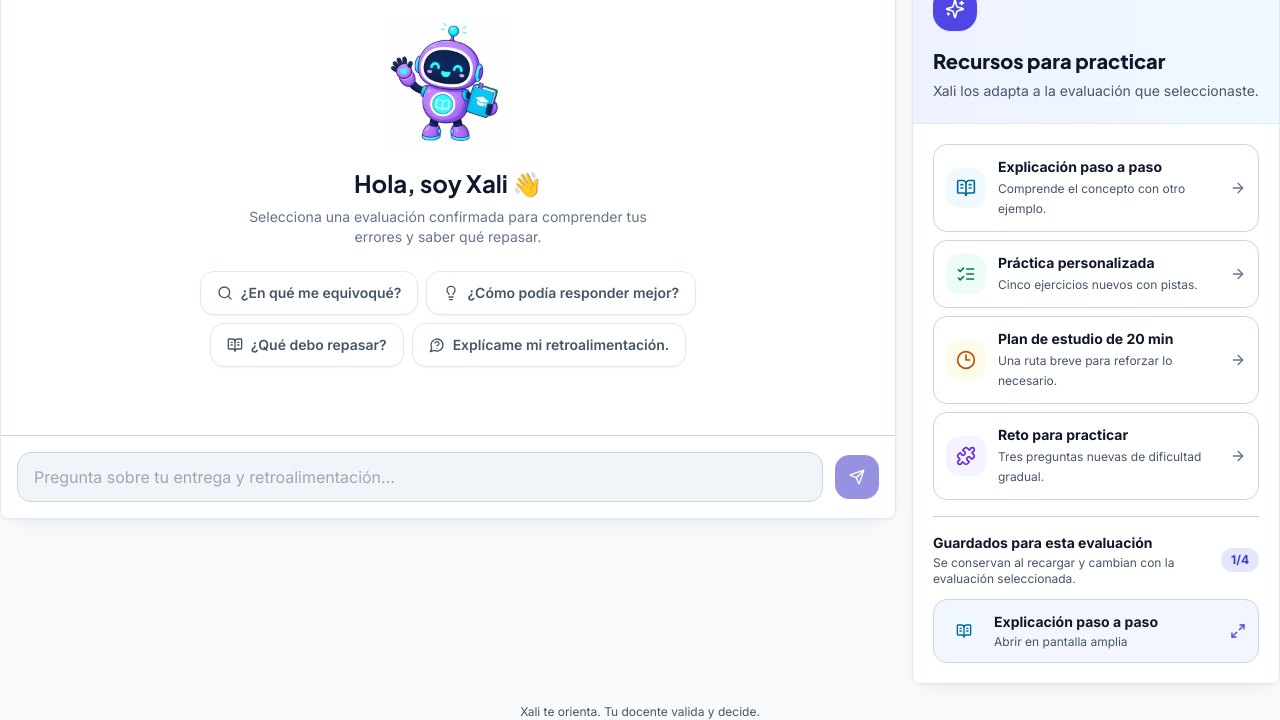
XaliPage student policy › loads only the saved resources for the selected evaluation
(page scrolled)
Click the button with aria-label "Abrir recurso guardado: Explicación paso a paso" at (1096, 631), box [933,599,1259,663]
(page scrolled)
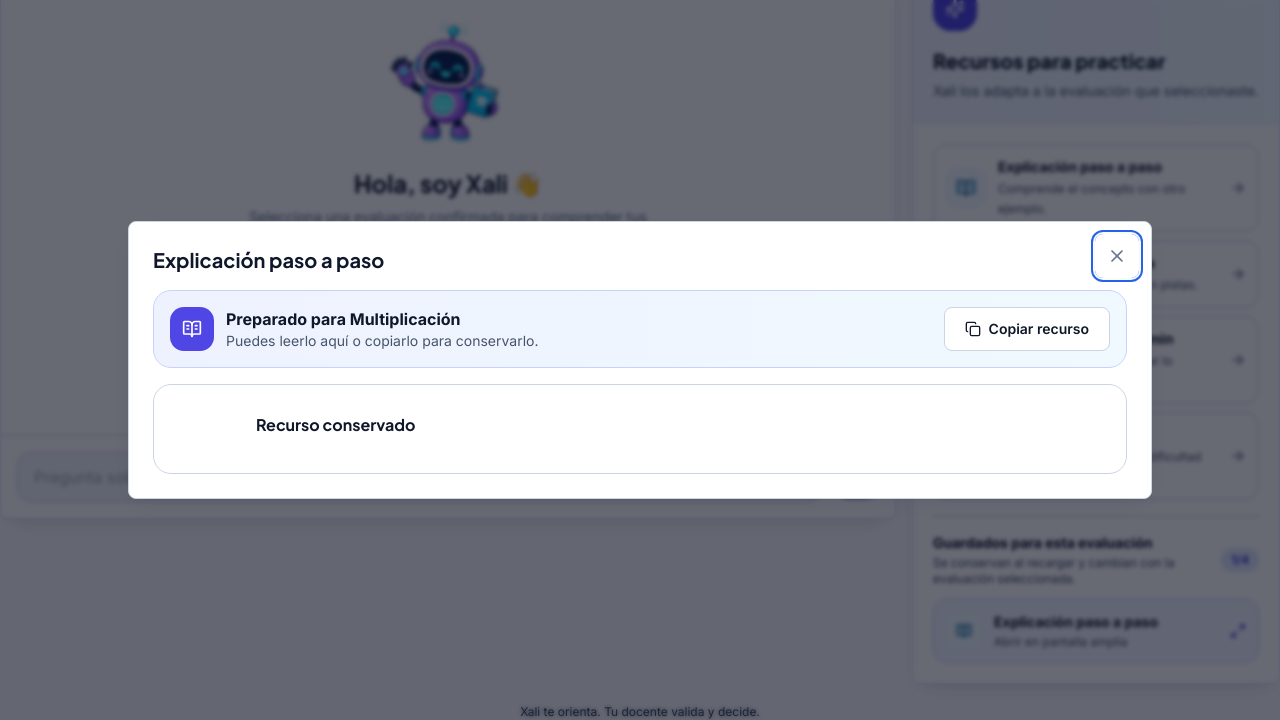
Expected: the dialog is shown, [128,221,1152,499]
Expected: the heading "Recurso conservado" is shown, [256,414,416,435]
